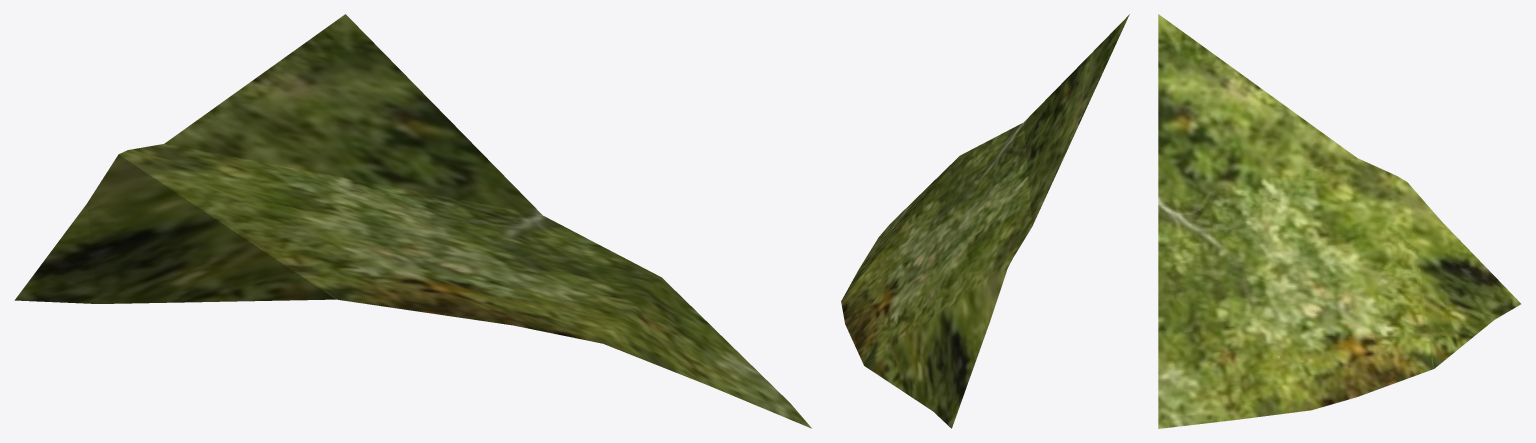
3 renders of one model, left to right at view 1: azimuth 30°, elevation 25°; view 2: azimuth 150°, elevation 25°; view 3: azimuth 270°, elevation 25°, orthographic. The views are drawn at different scales.
Bounding box in the file's own units: 1.65 × 1.78 × 2.03.
1 material, 1 textured.
